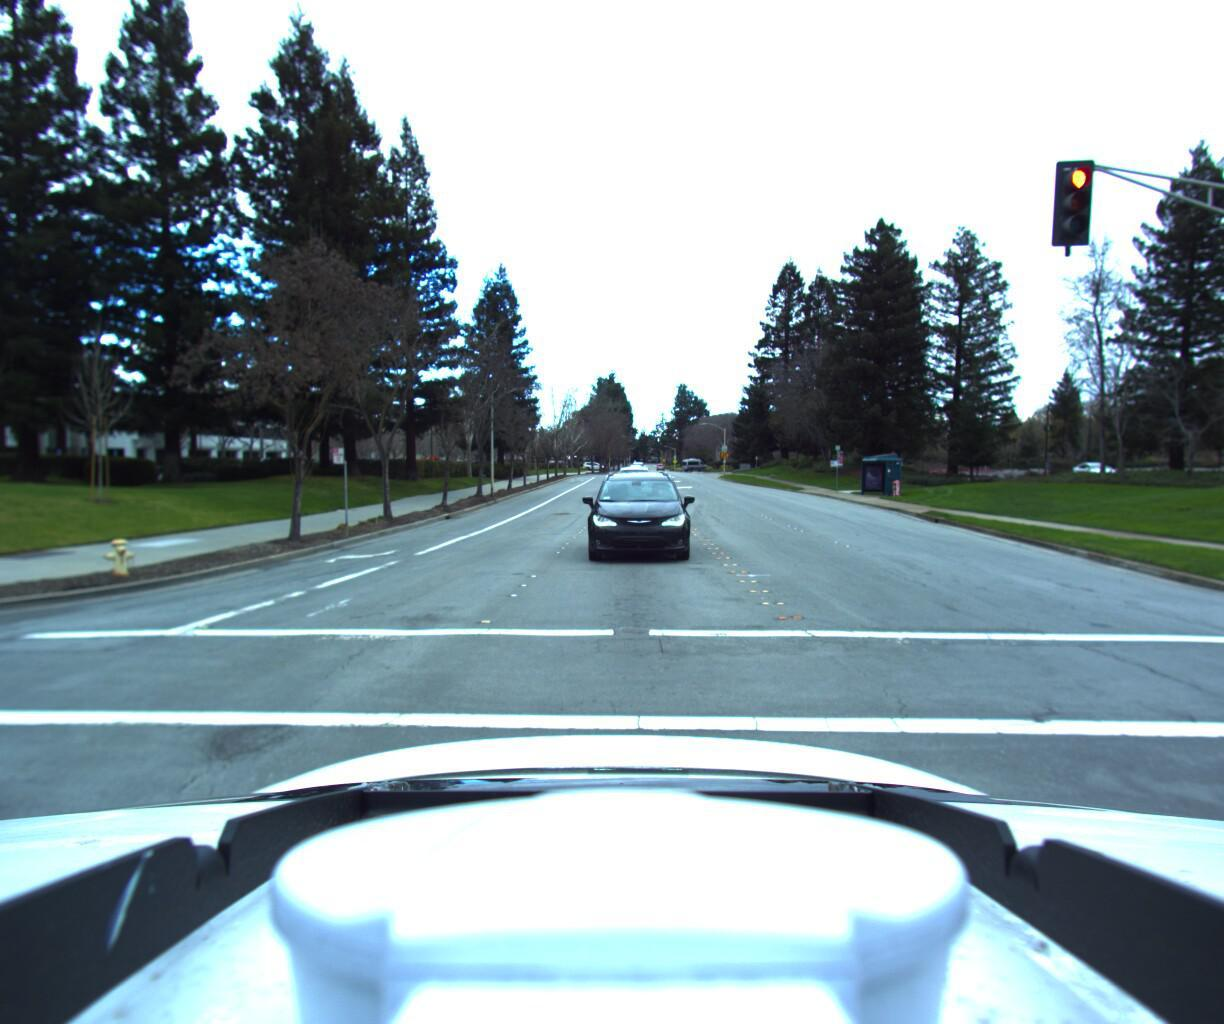car: (582, 460, 694, 563), (611, 464, 650, 500)
